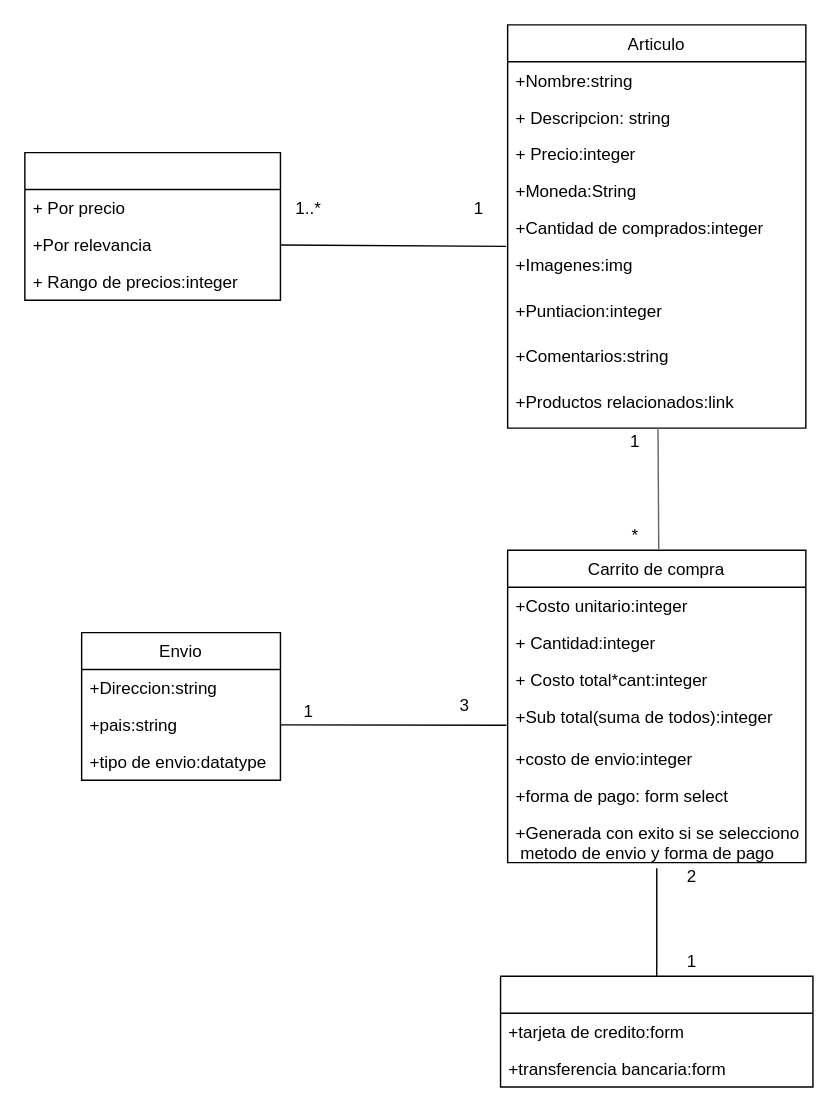
The diagram is 838 pixels wide and 1116 high, and some of its shapes have lost their labels. Each missing label, with the box of its shape:
Forma de pago: (499, 975, 813, 1087)
Lista de articulos: (23, 151, 280, 300)
